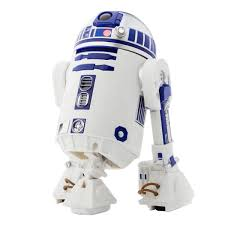r2d2: (51, 11, 194, 215)
